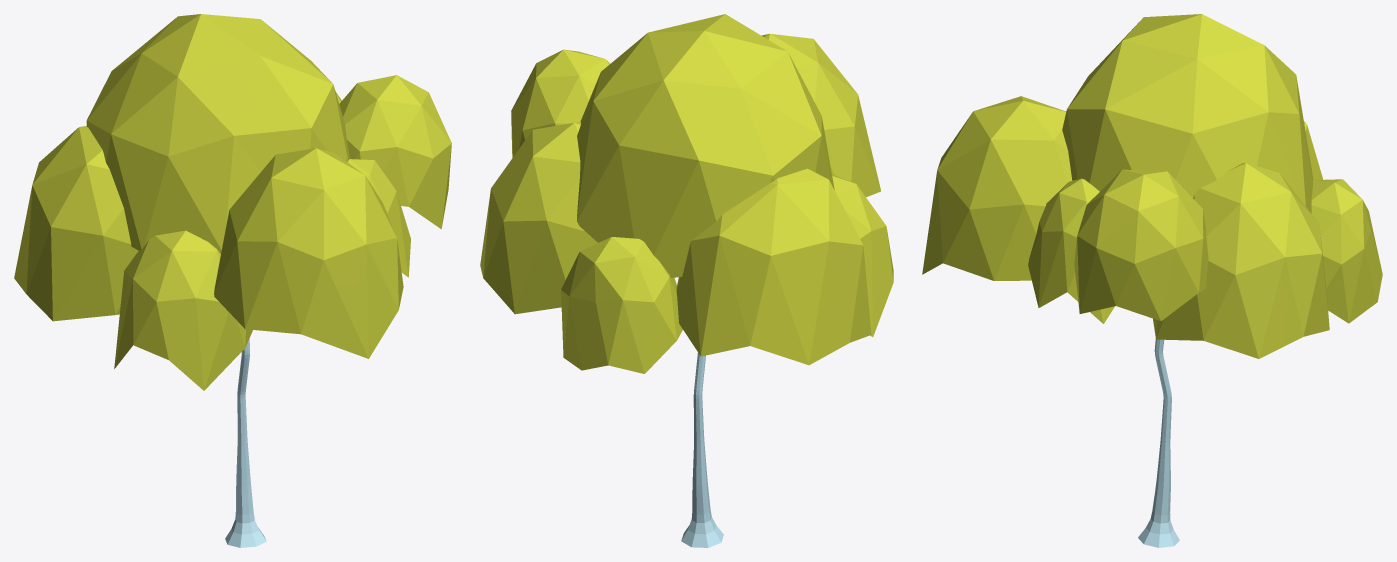
Rendered from BirchTree_1a.fbx.
3 views of the same model, side by side, from view 1: azimuth 30°, elevation 25°; view 2: azimuth 150°, elevation 25°; view 3: azimuth 270°, elevation 25° (orthographic). The views are drawn at different scales.
Parts seen in each view (by area): view 1: Icosphere; view 2: Icosphere; view 3: Icosphere.
Part boxes in pixels (left/top/right/bottom): Icosphere: left=14, top=14, right=451, bottom=547; Icosphere: left=480, top=14, right=893, bottom=547; Icosphere: left=922, top=14, right=1382, bottom=547.
Bounding box in the file's own units: 359 × 481 × 390.
